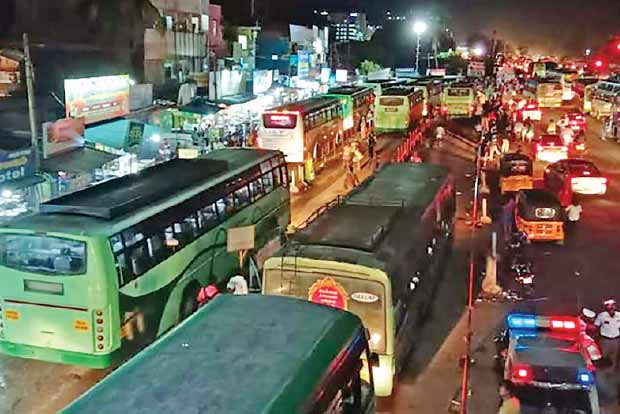bike: (509, 252, 543, 305)
bus: (1, 148, 293, 334), (129, 312, 365, 414), (318, 164, 456, 326), (276, 97, 341, 155), (378, 91, 418, 131), (441, 84, 474, 118), (529, 80, 563, 105)
car: (498, 312, 604, 414), (546, 157, 608, 198), (532, 134, 567, 156)
rickshaw: (514, 187, 568, 246), (498, 149, 536, 195)
